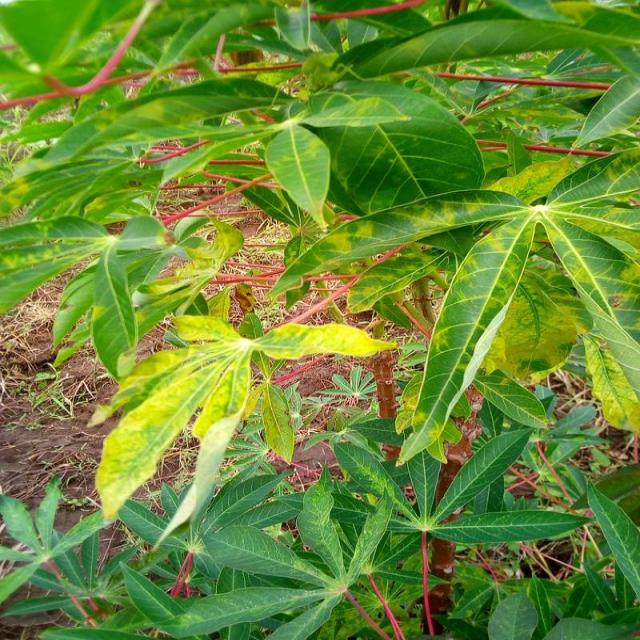cassava leaf: (92, 310, 398, 526), (395, 207, 537, 466)
